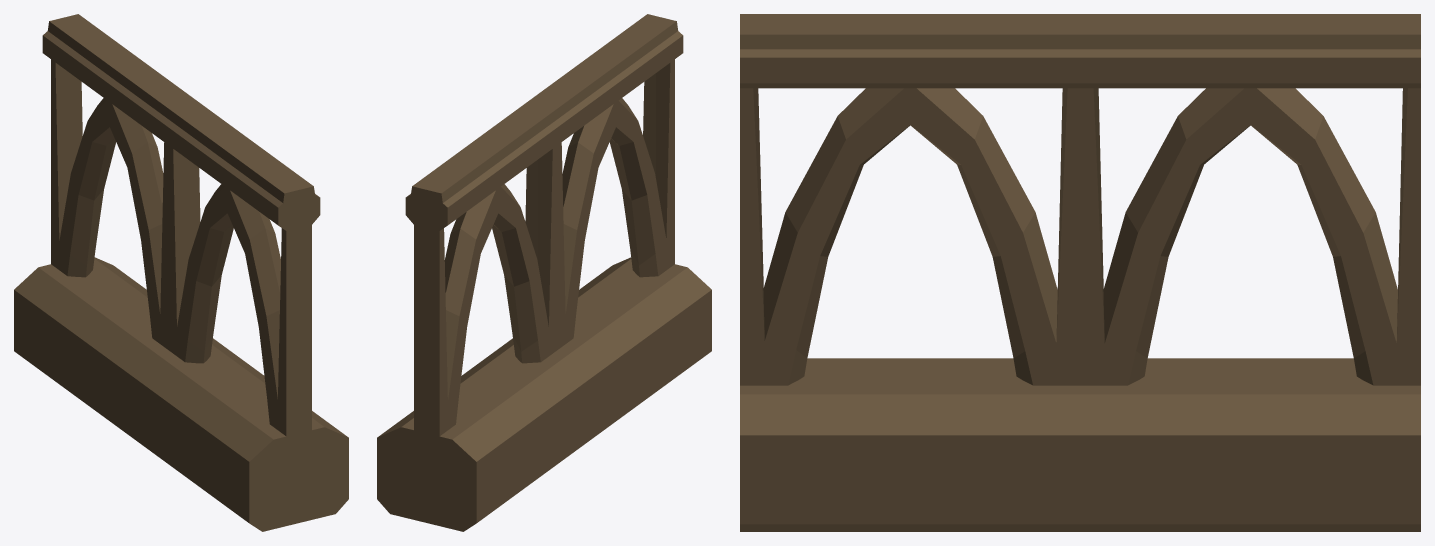
File: elven_SM_Bld_Stairs_Railing_Half_01.gltf
3 renders of one model, left to right at view 1: azimuth 30°, elevation 25°; view 2: azimuth 150°, elevation 25°; view 3: azimuth 270°, elevation 25°, orthographic. The views are drawn at different scales.
Visible parts, largest first — view 1: SM_Bld_Stairs_Railing_Half_01; view 2: SM_Bld_Stairs_Railing_Half_01; view 3: SM_Bld_Stairs_Railing_Half_01.
Part boxes in pixels (bbox=[...]): SM_Bld_Stairs_Railing_Half_01: bbox=[14, 14, 348, 531]; SM_Bld_Stairs_Railing_Half_01: bbox=[377, 14, 711, 531]; SM_Bld_Stairs_Railing_Half_01: bbox=[740, 14, 1420, 531].
Bounding box in the file's own units: 0.3053 × 0.9761 × 1.25.
Materials: 1 (1 with a texture image).
